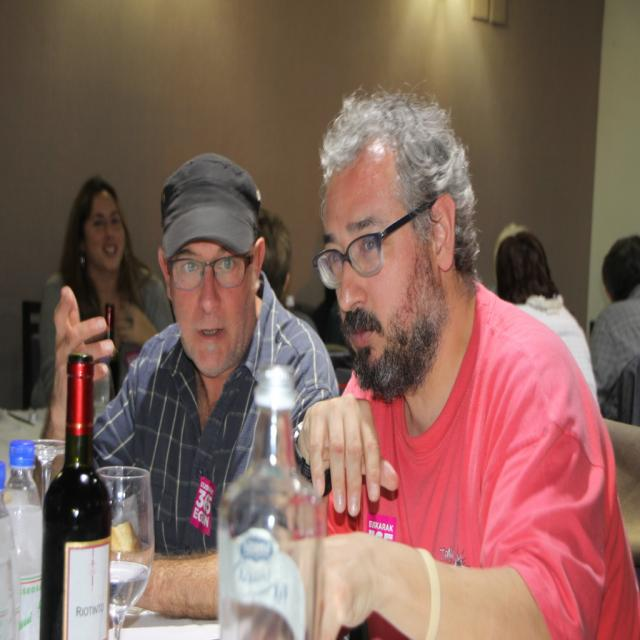Glasses: (311, 198, 434, 291), (170, 256, 258, 286)
